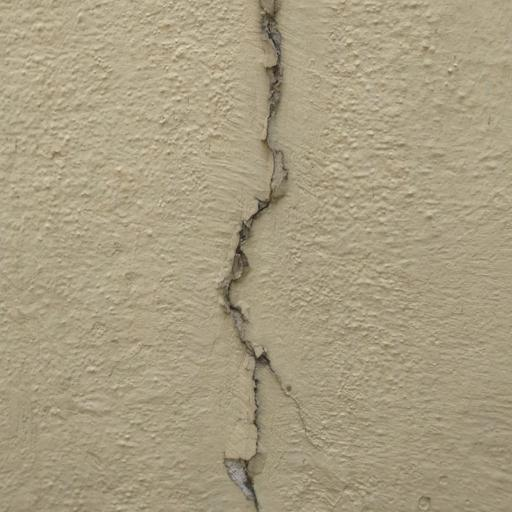minor_crack: (185, 0, 358, 512)
